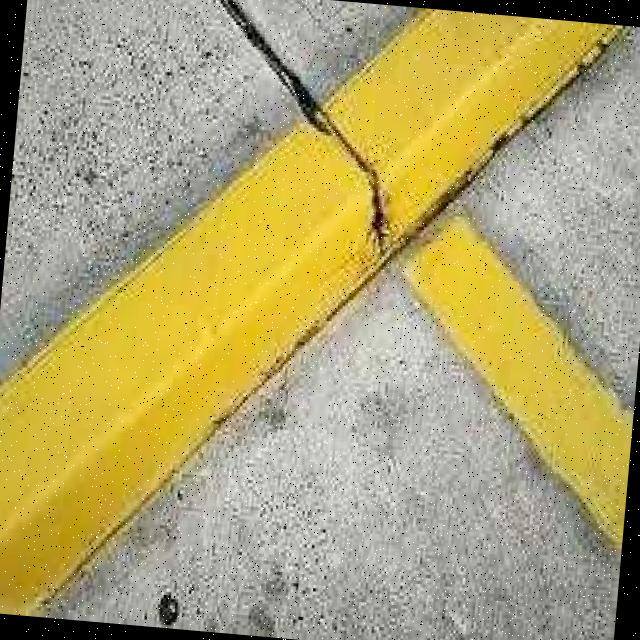curb: (1, 201, 336, 635), (334, 3, 626, 214), (225, 114, 477, 322)
